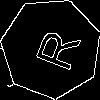R: (26, 23, 81, 74)
